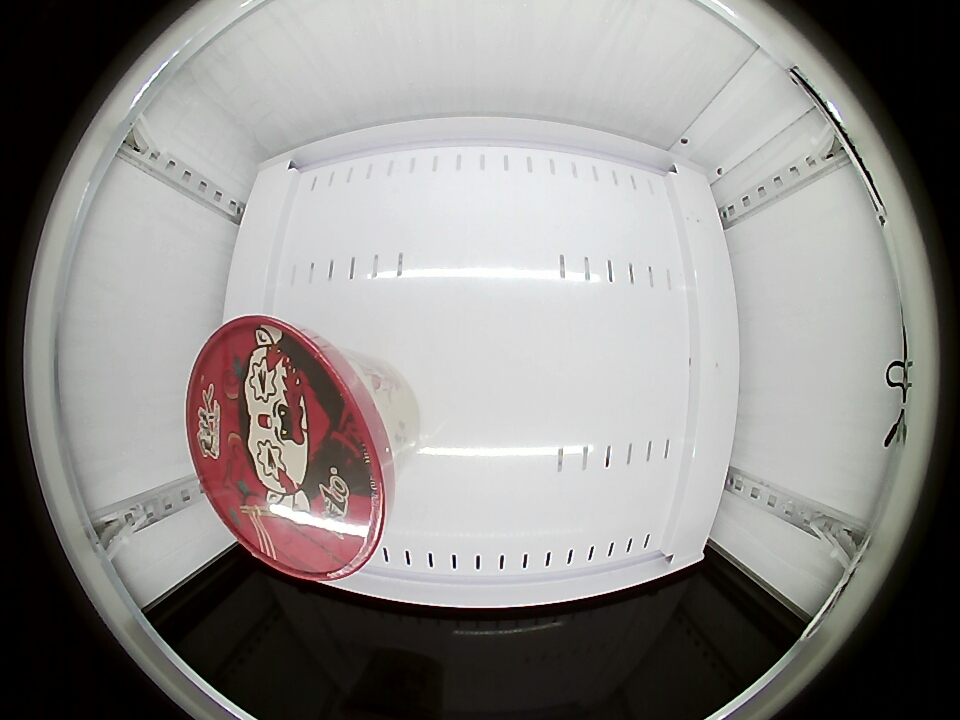suanlafen: (186, 316, 391, 580)
